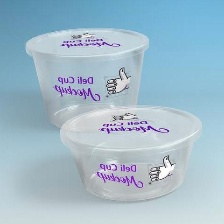plastic_box: (54, 98, 206, 205), (20, 21, 154, 133)
